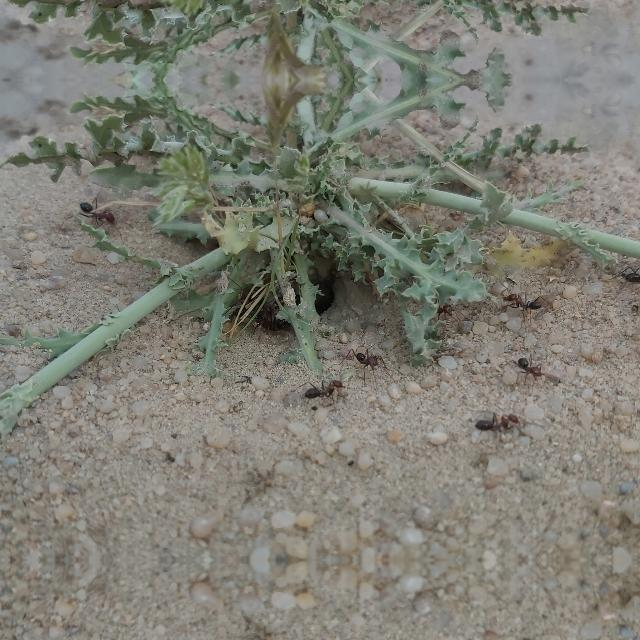Cataglyphis: (469, 409, 525, 436), (299, 376, 347, 404), (76, 199, 122, 227), (504, 289, 550, 315), (514, 353, 546, 381), (350, 346, 384, 369), (620, 257, 640, 285)
